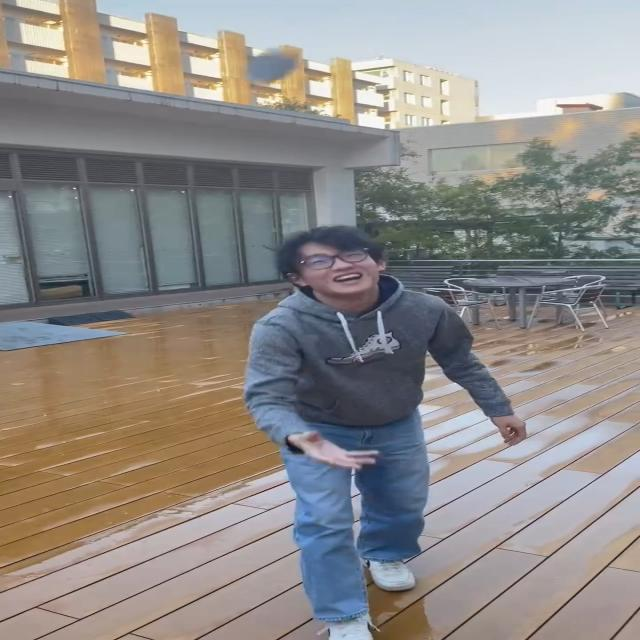paper: (244, 48, 301, 81)
